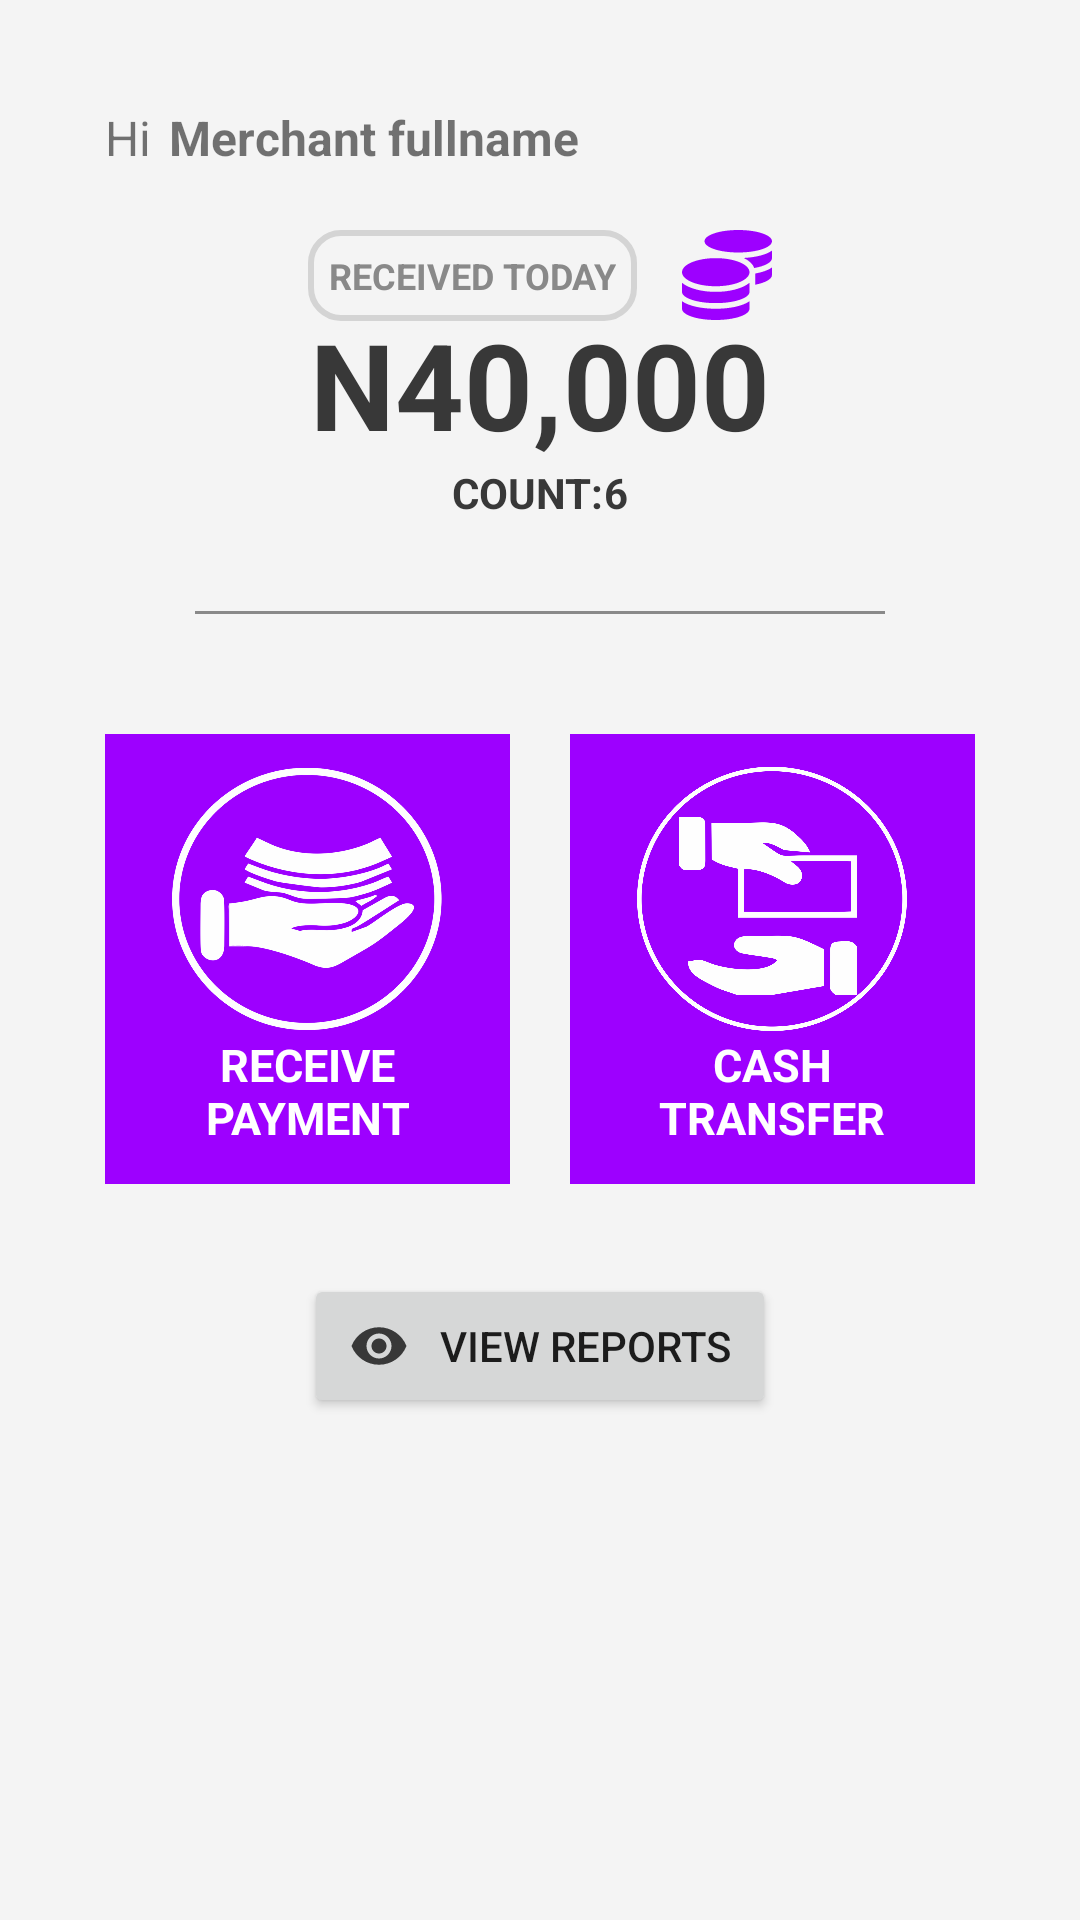

Point at icon controls on the screen. Image size 1080px x 1920px, points as (x=x, y=y).
coins: (x=727, y=275)
